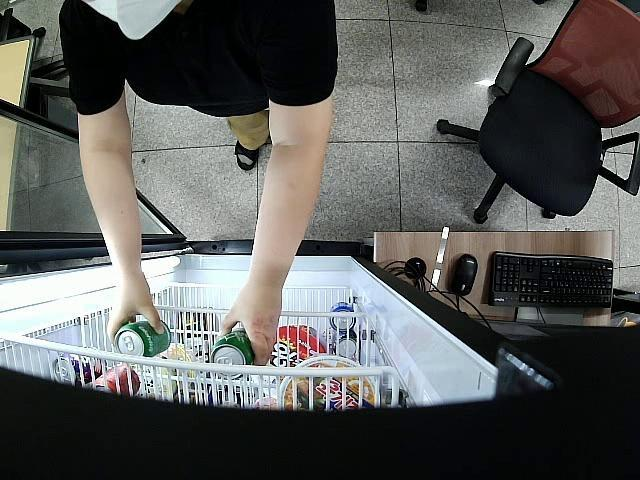12_chilsungCider: (212, 330, 253, 380), (115, 319, 172, 354)
